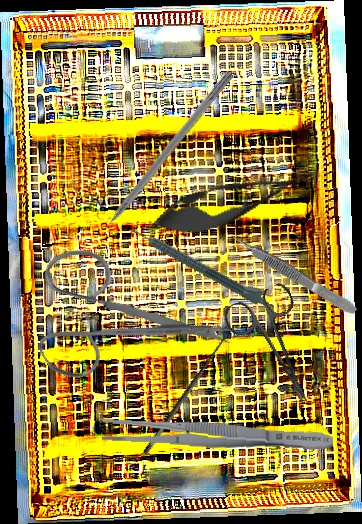Dressing Forceps: (101, 414, 334, 457)
Handpiece: (129, 219, 275, 311)
Hook Surgical: (133, 322, 235, 457)
Iris Scissors: (2, 196, 240, 431), (220, 280, 335, 419)
Micro Scissor: (145, 151, 328, 248)
Pusher: (85, 68, 235, 250)
Tissue Forceps: (230, 230, 359, 318)
